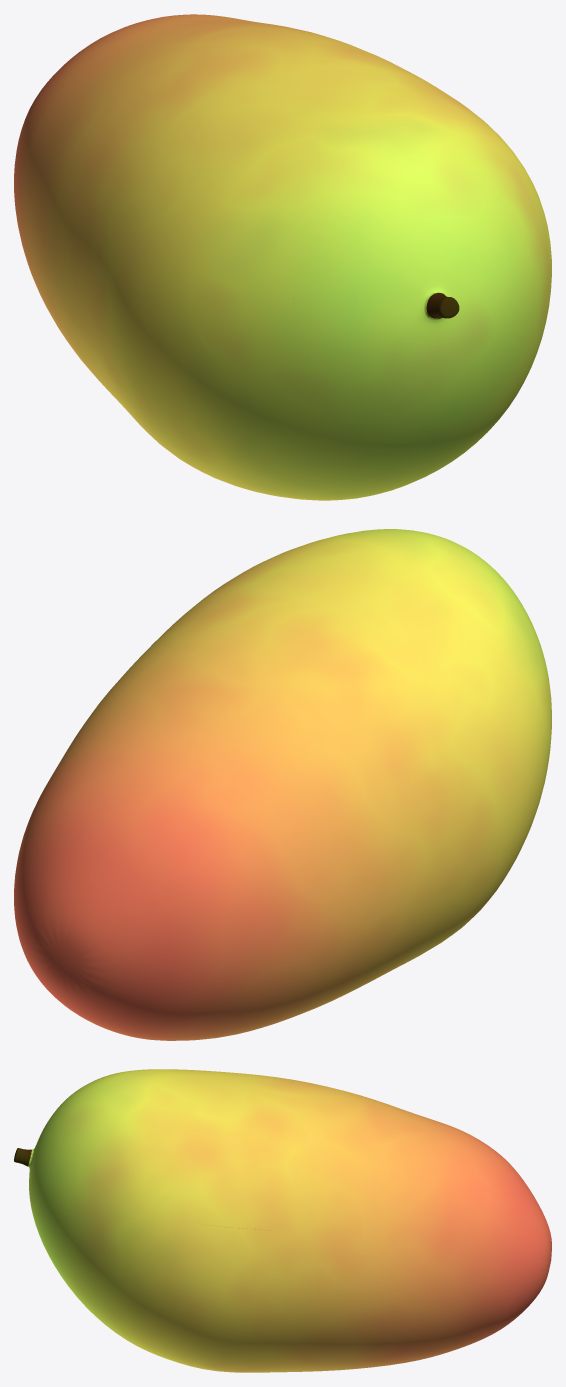
The model's file is mango.glb.
3 renders of one model, top to bottom at view 1: azimuth 30°, elevation 25°; view 2: azimuth 150°, elevation 25°; view 3: azimuth 270°, elevation 25°, orthographic. The views are drawn at different scales.
Visible parts, largest first — view 1: Sphere.001_0; view 2: Sphere.001_0; view 3: Sphere.001_0.
Boxes of the visible parts, bbox=[...] form: Sphere.001_0: bbox=[14, 14, 551, 500]; Sphere.001_0: bbox=[14, 529, 551, 1040]; Sphere.001_0: bbox=[14, 1069, 551, 1372].
Size of the model in its own units: 1.28 by 1.26 by 2.24.
Materials: 2 (2 with a texture image).
